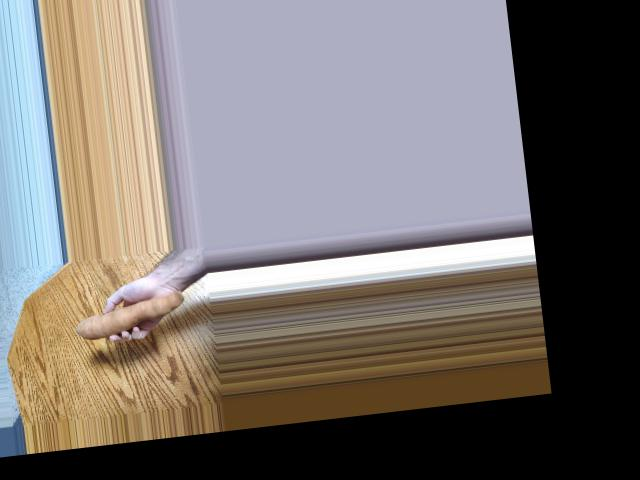sweet_potato: (67, 287, 181, 347)
